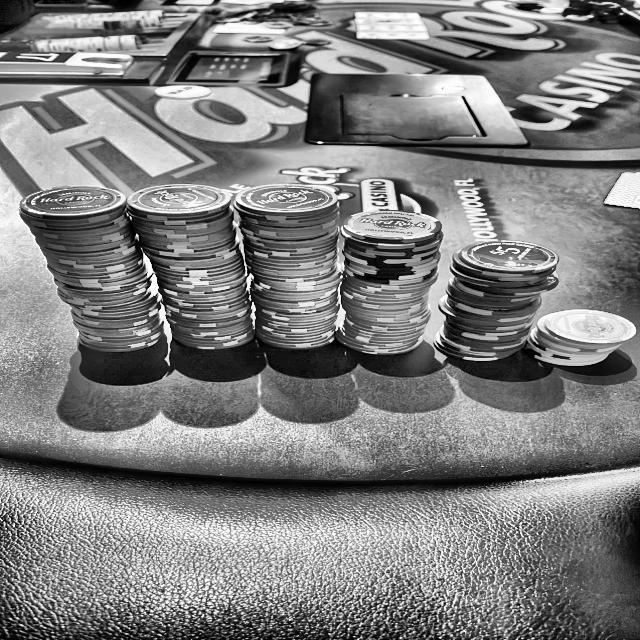Chip: (10, 185, 172, 365), (112, 181, 263, 363), (229, 181, 351, 356), (434, 238, 569, 372), (330, 206, 446, 359), (527, 306, 640, 377)
